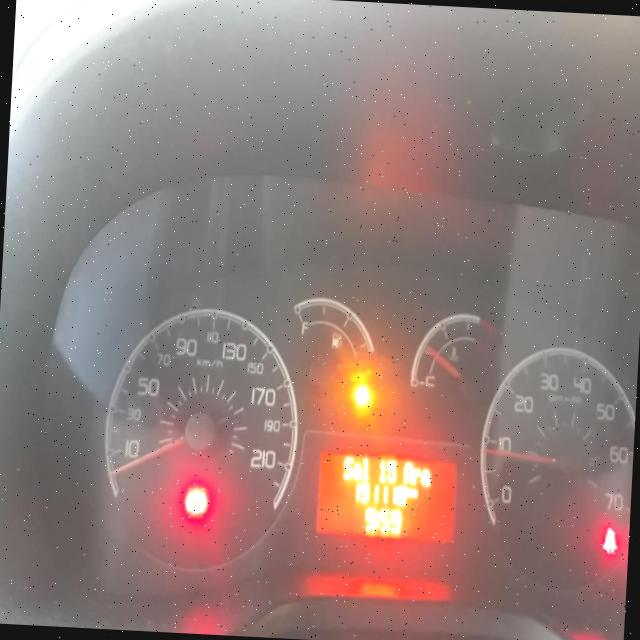odometer: (316, 450, 460, 544)
